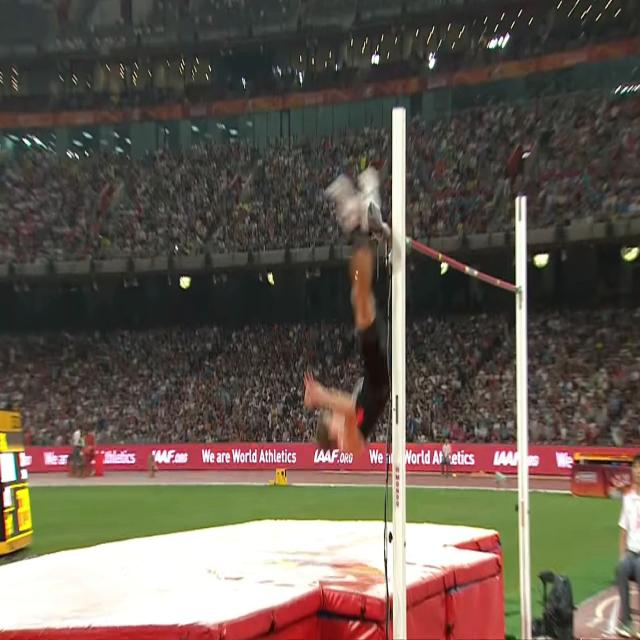land: (305, 167, 391, 453)
